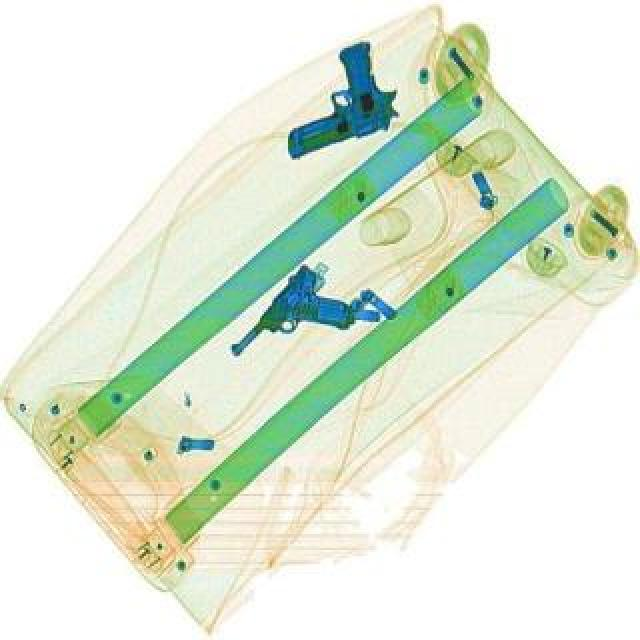gun: (256, 34, 412, 162), (220, 260, 364, 394)
